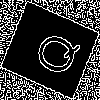Q: (25, 25, 83, 81)
